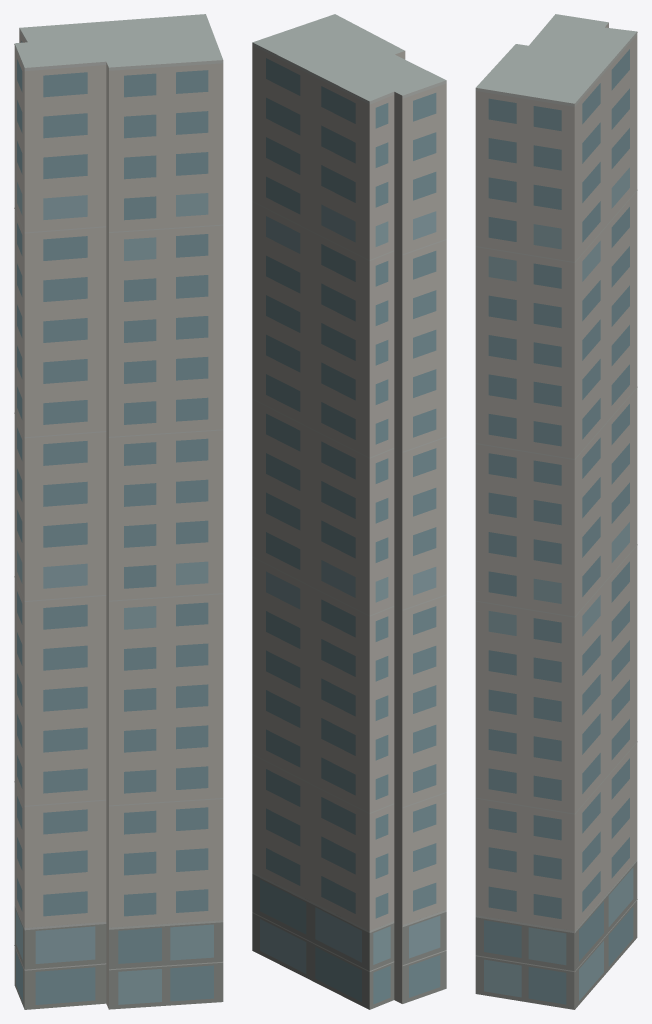
File: survey-upis-32787334.glb
3 views of the same model, side by side, from view 1: azimuth 30°, elevation 25°; view 2: azimuth 150°, elevation 25°; view 3: azimuth 270°, elevation 25° (orthographic). The views are drawn at different scales.
Visible parts, largest first — view 1: survey-upis-32787334.tmp; view 2: survey-upis-32787334.tmp; view 3: survey-upis-32787334.tmp.
Boxes of the visible parts, x1=… form: survey-upis-32787334.tmp: x1=14, y1=14, x2=223, y2=1009; survey-upis-32787334.tmp: x1=252, y1=14, x2=446, y2=1009; survey-upis-32787334.tmp: x1=475, y1=14, x2=637, y2=1009.
Bounding box in the file's own units: 14.93 × 70.15 × 11.37.
